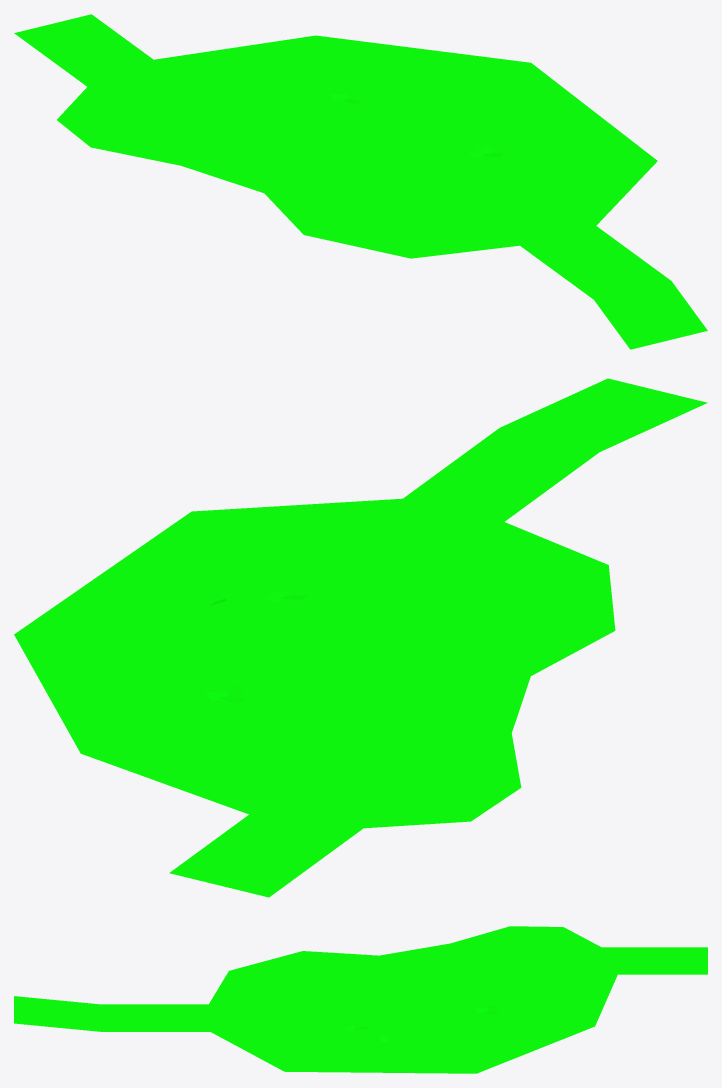
File: s03e_ia1-floor.glb
3 renders of one model, top to bottom at view 1: azimuth 30°, elevation 25°; view 2: azimuth 150°, elevation 25°; view 3: azimuth 270°, elevation 25°, orthographic. The views are drawn at different scales.
Visible parts, largest first — view 1: collision_floor-colonly; view 2: collision_floor-colonly; view 3: collision_floor-colonly.
Boxes of the visible parts, x1,y1,x2,y2 form: collision_floor-colonly: [14, 14, 707, 349]; collision_floor-colonly: [14, 378, 707, 897]; collision_floor-colonly: [14, 926, 707, 1073].
Bounding box in the file's own units: 32.24 × 0.3398 × 64.07.
